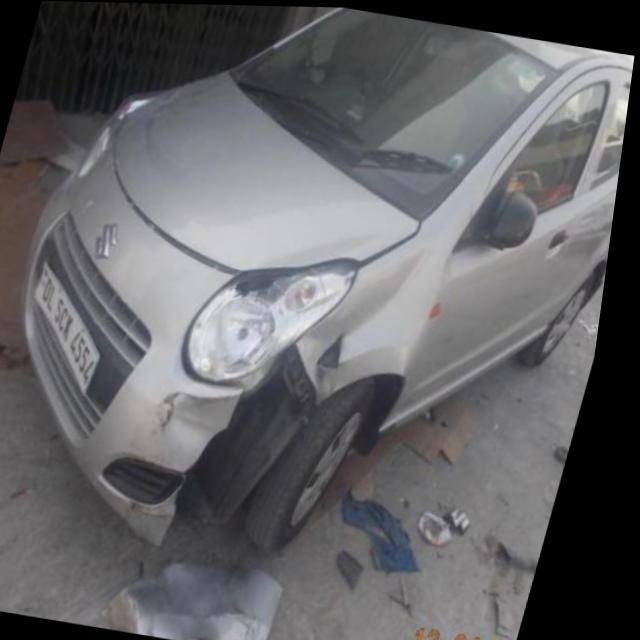crack: (165, 386, 190, 438)
dent: (349, 247, 428, 363), (174, 387, 247, 471)
lamp broken: (242, 264, 311, 297)
no part: (171, 341, 338, 552)
scratch: (328, 332, 353, 384)
